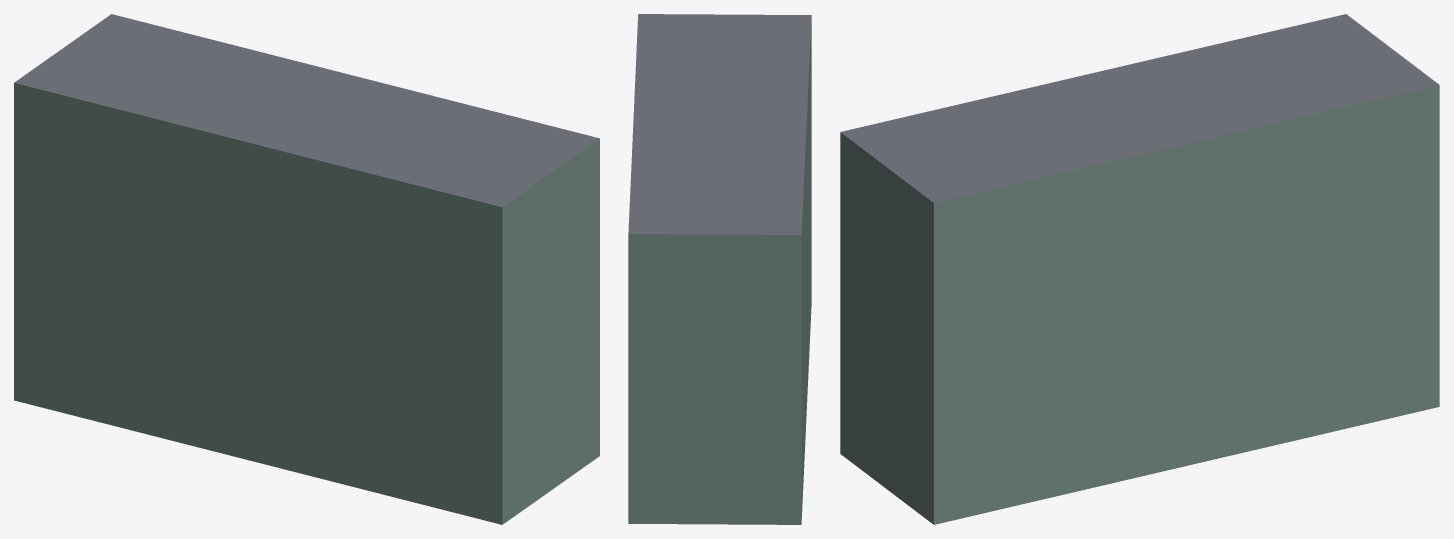
Rendered from nyc-1083716-0.glb.
3 views of the same model, side by side, from view 1: azimuth 30°, elevation 25°; view 2: azimuth 150°, elevation 25°; view 3: azimuth 270°, elevation 25° (orthographic). The views are drawn at different scales.
Parts seen in each view (by area): view 1: nyc-1083716-0; view 2: nyc-1083716-0; view 3: nyc-1083716-0.
Part boxes in pixels (x1,y1,x2,y2): nyc-1083716-0: [14, 14, 599, 524]; nyc-1083716-0: [628, 14, 811, 524]; nyc-1083716-0: [840, 14, 1439, 524].
Bounding box in the file's own units: 23.41 × 18.58 × 31.36.
